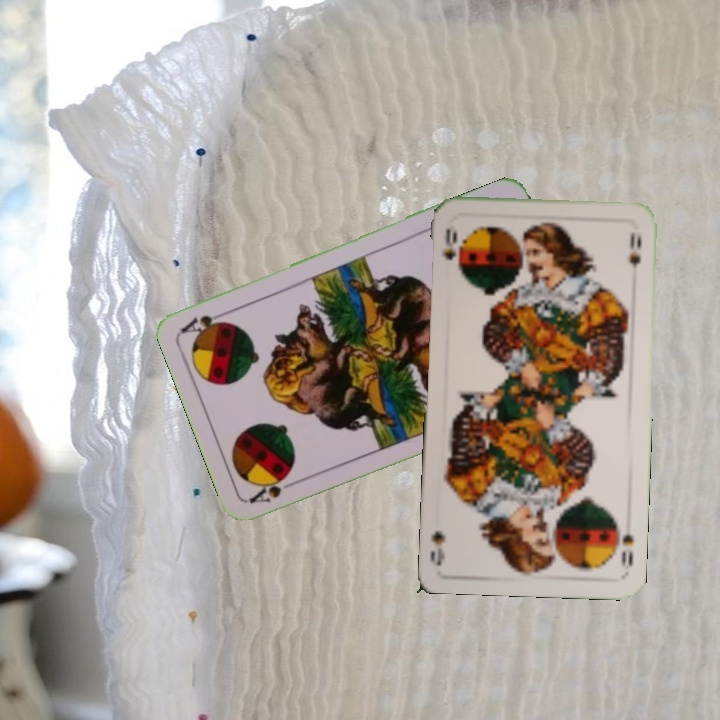SA: (245, 466, 303, 507)
SO: (612, 515, 636, 574), (438, 224, 464, 277)
